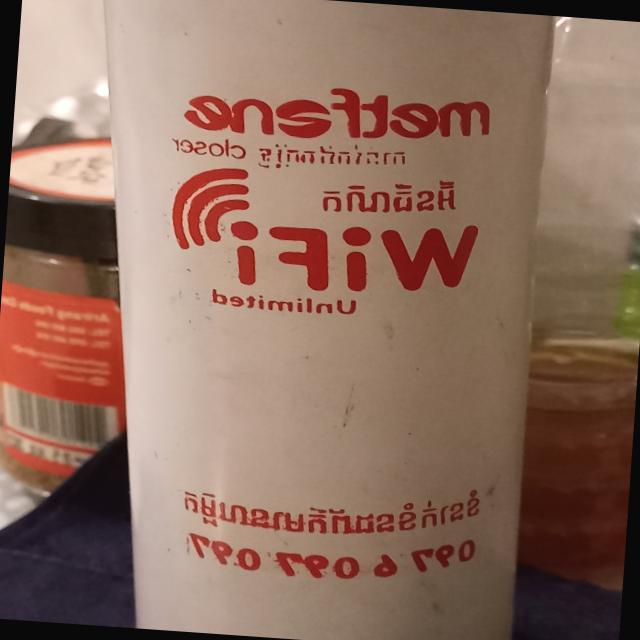477: (180, 526, 481, 588)
Yolov11_80vkh: (180, 483, 483, 534), (317, 176, 459, 214), (255, 140, 407, 171)
